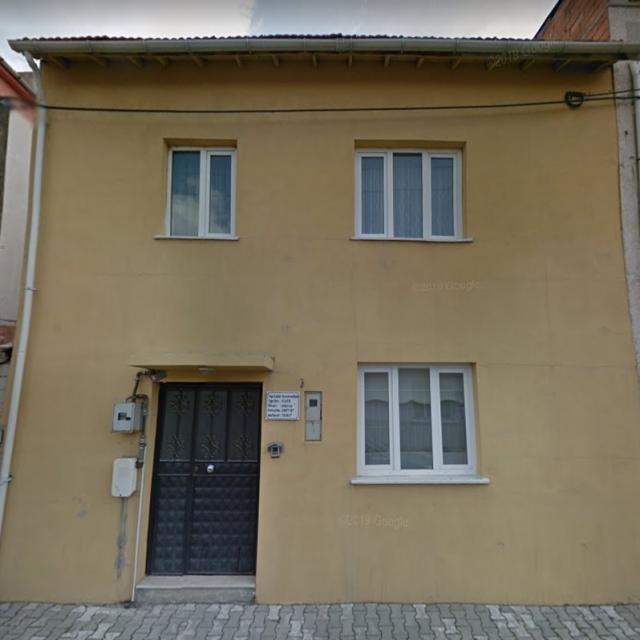Building: (0, 37, 640, 603)
